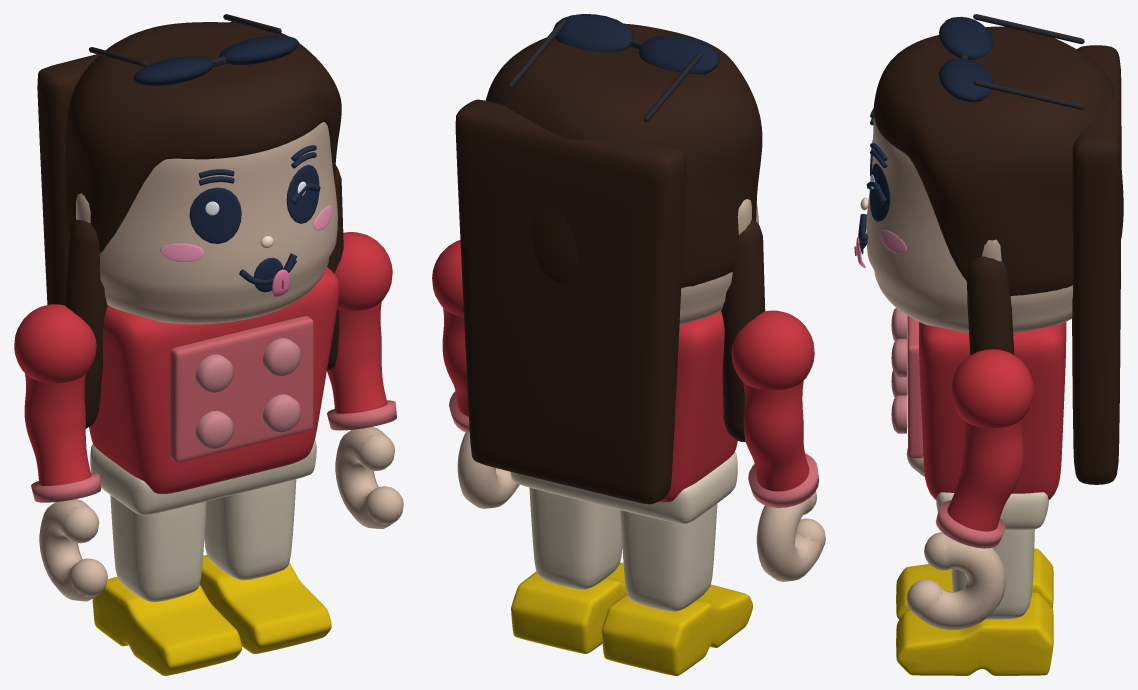
The model's file is mom.glb.
The picture shows the model from 3 angles, left to right: view 1: azimuth 30°, elevation 25°; view 2: azimuth 150°, elevation 25°; view 3: azimuth 270°, elevation 25°; orthographic projection.
Visible parts, largest first — view 1: HeadMesh, Body, ArmMeshL, ArmMeshR, Ink_surprised_1D2A44, Ink_happy_FF9EC4, Ink_silly_1D2A44; view 2: HeadMesh, Body, ArmMeshL, ArmMeshR; view 3: HeadMesh, Body, ArmMeshR, Ink_surprised_1D2A44, Ink_silly_1D2A44, Ink_happy_FF9EC4.
Part boxes in pixels (box(x1,y1,x2,y2)): HeadMesh: box(37, 14, 343, 428); Body: box(89, 267, 339, 675); ArmMeshL: box(14, 304, 107, 601); ArmMeshR: box(327, 232, 403, 528); Ink_surprised_1D2A44: box(189, 145, 319, 292); Ink_happy_FF9EC4: box(160, 205, 332, 262); Ink_silly_1D2A44: box(198, 153, 320, 284); HeadMesh: box(455, 14, 765, 504); Body: box(510, 311, 752, 675); ArmMeshL: box(731, 310, 825, 581); ArmMeshR: box(432, 240, 519, 508); HeadMesh: box(866, 14, 1123, 484); Body: box(891, 308, 1066, 675); ArmMeshR: box(906, 349, 1033, 629); Ink_surprised_1D2A44: box(859, 108, 890, 254); Ink_silly_1D2A44: box(858, 118, 886, 248); Ink_happy_FF9EC4: box(880, 230, 906, 253).
Size of the model in its own units: 1.64 by 2.51 by 1.04.
